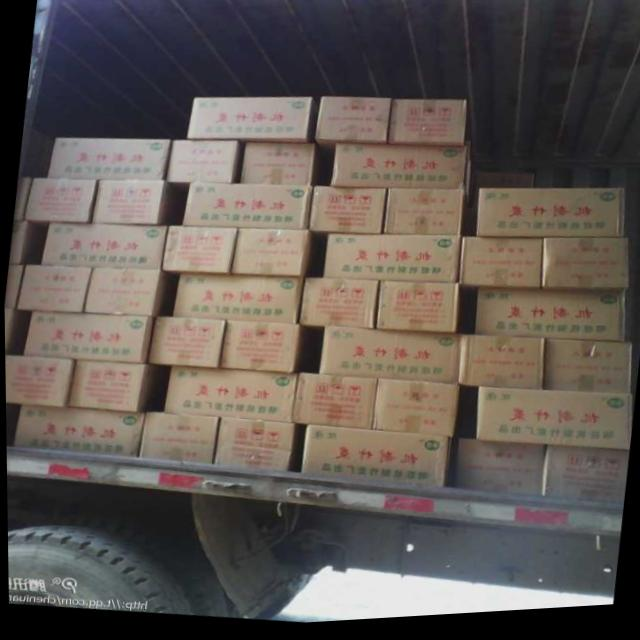box: (474, 392, 630, 458), (300, 428, 449, 492), (473, 292, 624, 349), (318, 329, 459, 390), (329, 145, 469, 205), (162, 366, 296, 426), (476, 194, 623, 244), (21, 311, 153, 364), (322, 236, 459, 287), (13, 404, 143, 457), (171, 275, 302, 327), (180, 185, 311, 233), (38, 223, 166, 272), (184, 99, 317, 146), (450, 444, 544, 503), (46, 138, 169, 182), (540, 451, 628, 512), (372, 383, 458, 441), (541, 345, 631, 400), (289, 377, 375, 434), (457, 340, 542, 396), (540, 244, 626, 298), (65, 360, 152, 413), (314, 100, 391, 159), (218, 323, 303, 376), (374, 285, 458, 338), (212, 420, 294, 474), (458, 242, 542, 294), (82, 267, 166, 318), (297, 281, 377, 333), (145, 318, 225, 370), (137, 413, 217, 465), (230, 231, 313, 279), (307, 190, 385, 241), (383, 192, 463, 240), (165, 141, 241, 191), (386, 103, 465, 151), (160, 227, 236, 276), (4, 354, 74, 407), (90, 182, 173, 226), (15, 265, 91, 313), (240, 144, 320, 189), (23, 178, 95, 227), (7, 221, 36, 265), (3, 264, 25, 309), (4, 308, 20, 355)
